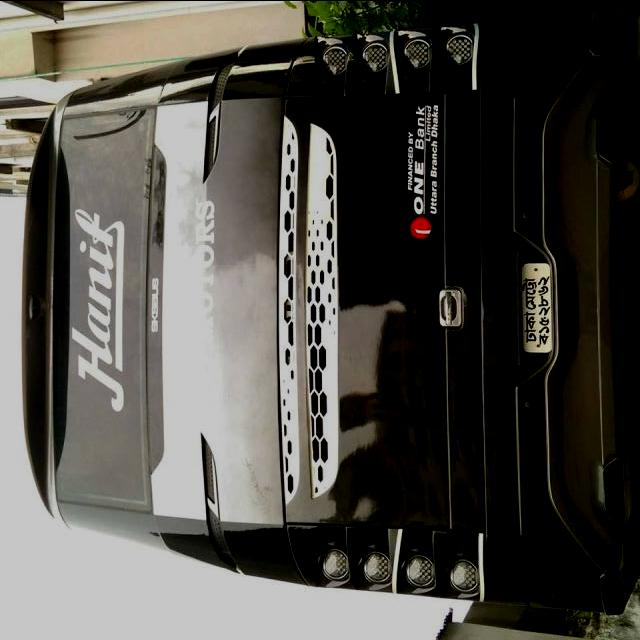bus: (21, 7, 638, 621)
